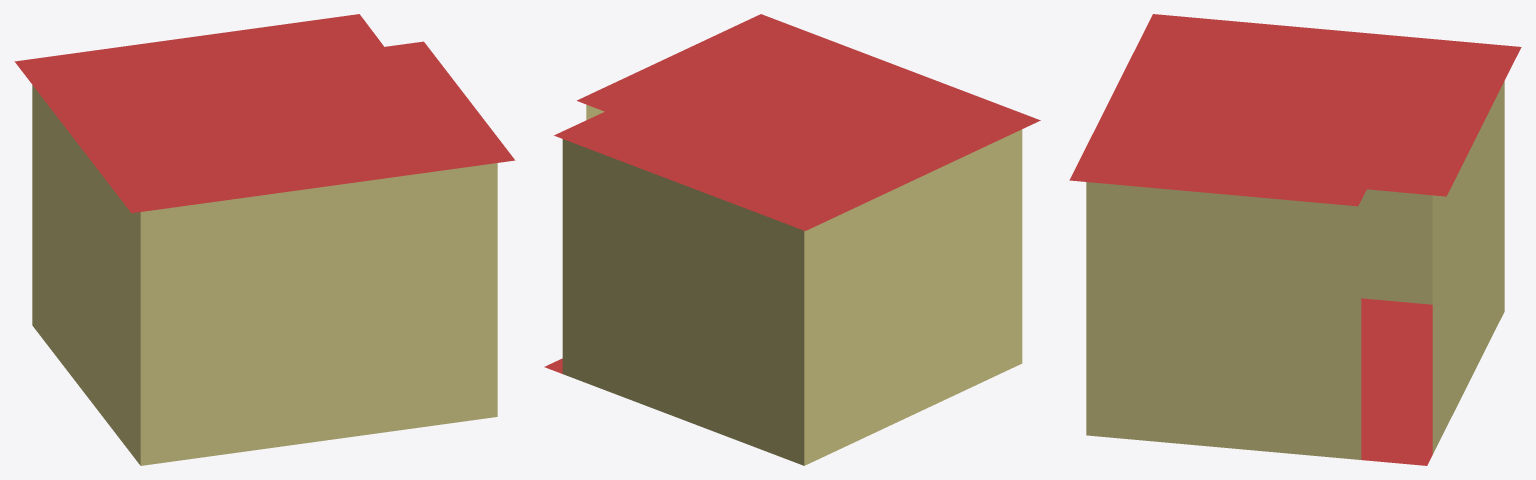
3 renders of one model, left to right at view 1: azimuth 30°, elevation 25°; view 2: azimuth 150°, elevation 25°; view 3: azimuth 270°, elevation 25°, orthographic. The views are drawn at different scales.
Size of the model in its own units: 8.01 by 7.96 by 5.04.
